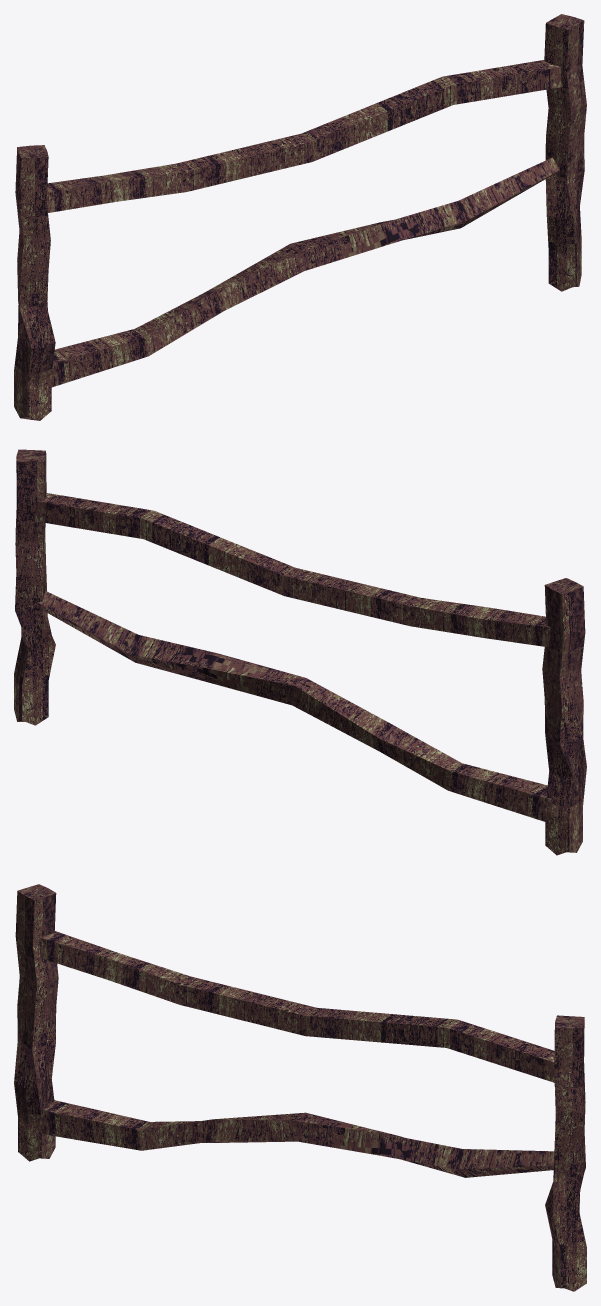
3 views of the same model, one above another, from view 1: azimuth 30°, elevation 25°; view 2: azimuth 150°, elevation 25°; view 3: azimuth 330°, elevation 25° (orthographic).
Parts seen in each view (by area): view 1: Cube; view 2: Cube; view 3: Cube.
Boxes of the visible parts, box(x1,y1,x2,y2) form: Cube: box(14, 14, 586, 420); Cube: box(14, 449, 586, 855); Cube: box(14, 884, 586, 1291).
Size of the model in its own units: 213 by 95.63 by 14.64.
Materials: 1 (1 with a texture image).
